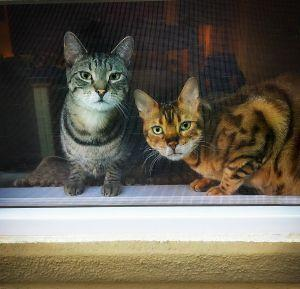bengal: (133, 78, 207, 167)
